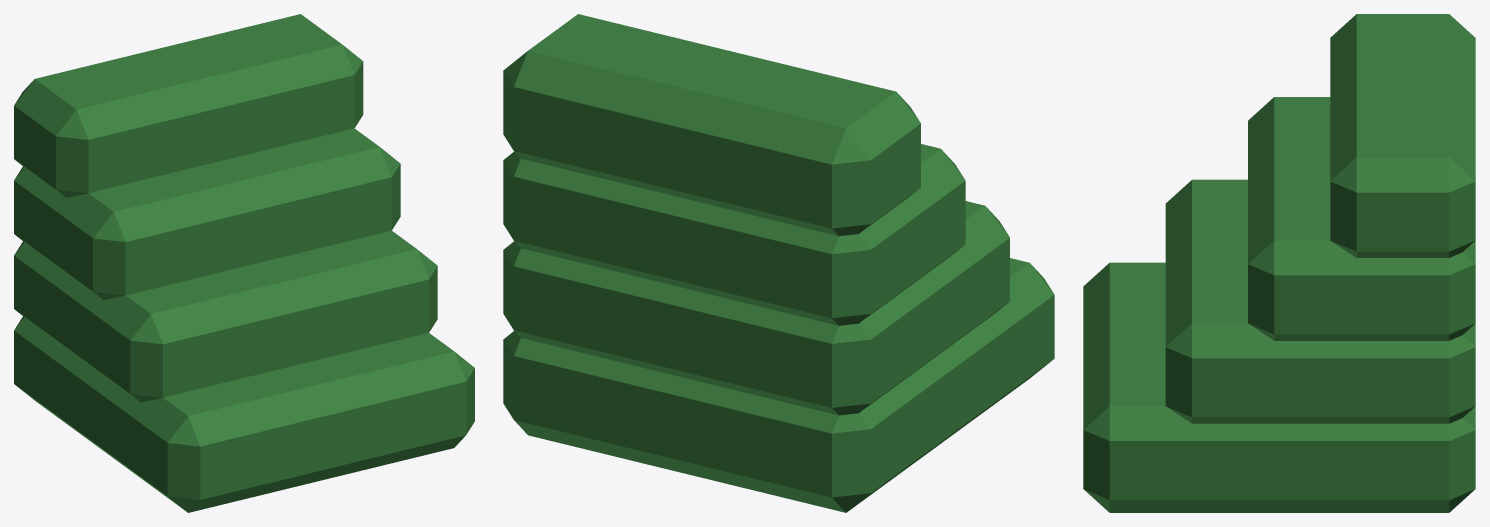
The model's file is m_kub_dung_stairs_straight.fbx.
The picture shows the model from 3 angles, left to right: view 1: azimuth 30°, elevation 25°; view 2: azimuth 150°, elevation 25°; view 3: azimuth 270°, elevation 25°; orthographic projection. The views are drawn at different scales.
Parts seen in each view (by area): view 1: m_kub_dung_stairs_straight; view 2: m_kub_dung_stairs_straight; view 3: m_kub_dung_stairs_straight.
Part boxes in pixels (left/top/right/bottom): m_kub_dung_stairs_straight: left=14, top=14, right=474, bottom=512; m_kub_dung_stairs_straight: left=503, top=14, right=1054, bottom=512; m_kub_dung_stairs_straight: left=1083, top=14, right=1475, bottom=512.
Size of the model in its own units: 2.15 by 2.15 by 2.15.
